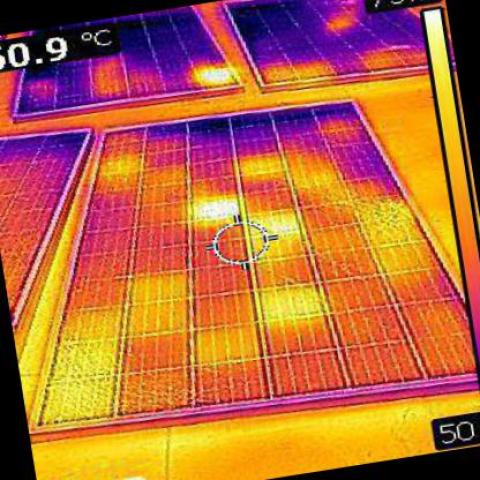fault: (260, 284, 323, 318), (188, 194, 232, 215), (196, 65, 234, 87), (276, 212, 296, 245)
